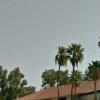Palm tree: (46, 32, 82, 82)
